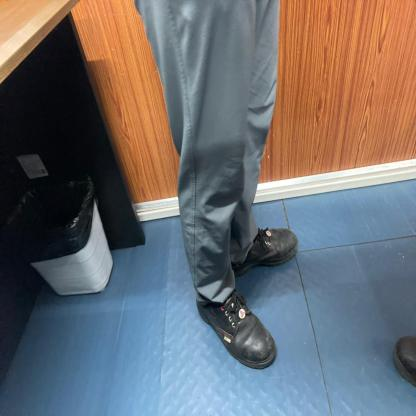bota: (196, 288, 276, 371), (232, 226, 300, 279)
